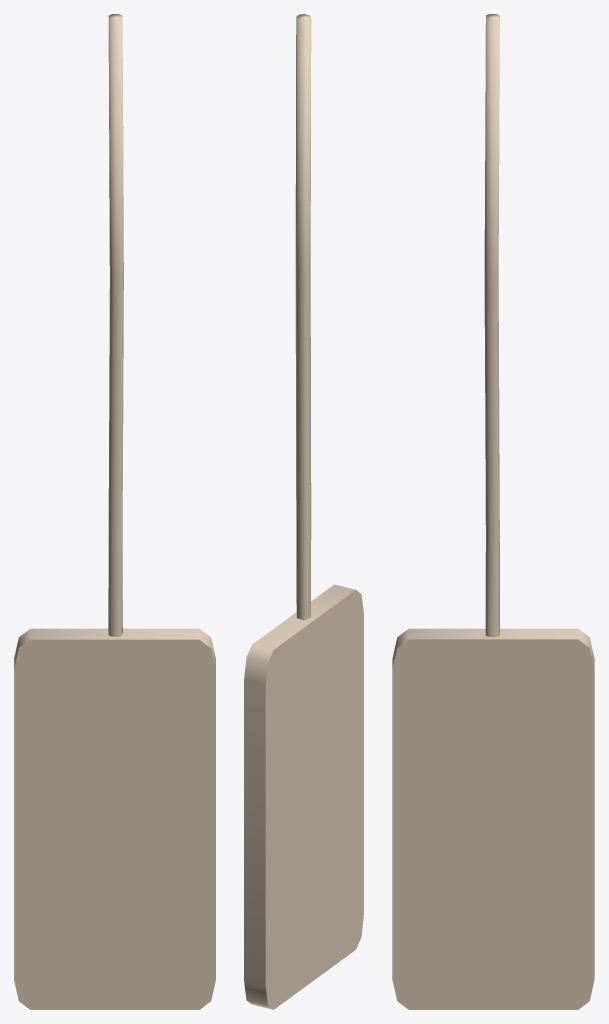
File: Token on rope.glb
3 views of the same model, side by side, from view 1: azimuth 90°, elevation 25°; view 2: azimuth 150°, elevation 25°; view 3: azimuth 270°, elevation 25° (orthographic). The views are drawn at different scales.
Parts seen in each view (by area): view 1: Token on rope; view 2: Token on rope; view 3: Token on rope.
Boxes of the visible parts, left/top/right/bottom form: Token on rope: left=14, top=14, right=215, bottom=1009; Token on rope: left=244, top=14, right=363, bottom=1009; Token on rope: left=392, top=14, right=594, bottom=1009.
Bounding box in the file's own units: 0.0104 × 0.4388 × 0.0813.
